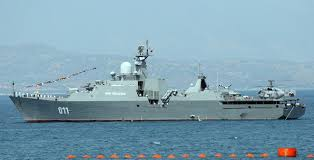tau_muctieu: (11, 51, 306, 122)
